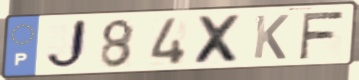4: (148, 15, 189, 67)
8: (98, 17, 138, 70)
F: (296, 9, 347, 61)
J: (43, 17, 91, 73)
K: (251, 13, 291, 61)
X: (192, 13, 246, 66)
